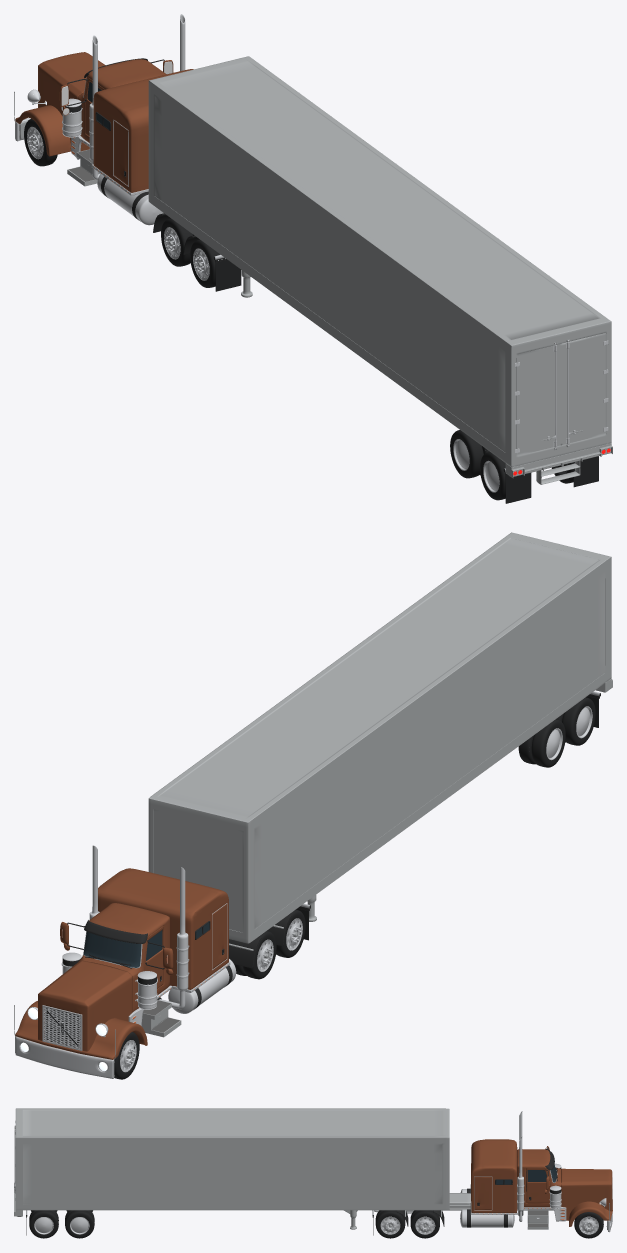
The model's file is semi.glb.
The picture shows the model from 3 angles, top to bottom: view 1: azimuth 30°, elevation 25°; view 2: azimuth 150°, elevation 25°; view 3: azimuth 270°, elevation 25°; orthographic projection. The views are drawn at different scales.
Parts seen in each view (by area): view 1: Cube007_19, Cube007_20, Cube007, Cube007_4, Cube007_9, Cube007_2, Cube007_11, Cube007_10, Cube007_3, Cube007_5; view 2: Cube007_19, Cube007_20, Cube007, Cube007_4, Cube007_3, Cube007_9, Cube007_1, Cube007_10; view 3: Cube007_19, Cube007_20, Cube007, Cube007_4, Cube007_9, Cube007_10, Cube007_14, Cube007_3, Cube007_5, Cube007_1, Cube007_6.
Boxes of the visible parts, bbox=[...] form: Cube007_19: bbox=[148, 56, 611, 467]; Cube007_20: bbox=[150, 56, 610, 345]; Cube007: bbox=[15, 52, 193, 192]; Cube007_4: bbox=[15, 14, 610, 492]; Cube007_9: bbox=[24, 119, 571, 499]; Cube007_2: bbox=[215, 259, 598, 503]; Cube007_11: bbox=[14, 91, 612, 484]; Cube007_10: bbox=[24, 118, 573, 500]; Cube007_3: bbox=[67, 58, 567, 474]; Cube007_5: bbox=[67, 149, 582, 449]; Cube007_19: bbox=[148, 557, 611, 943]; Cube007_20: bbox=[150, 532, 611, 821]; Cube007: bbox=[15, 868, 228, 1059]; Cube007_4: bbox=[15, 691, 599, 1078]; Cube007_3: bbox=[44, 693, 600, 1048]; Cube007_9: bbox=[116, 699, 595, 1078]; Cube007_1: bbox=[83, 930, 162, 967]; Cube007_10: bbox=[114, 697, 590, 1079]; Cube007_19: bbox=[15, 1109, 449, 1210]; Cube007_20: bbox=[15, 1108, 448, 1137]; Cube007: bbox=[471, 1139, 612, 1226]; Cube007_4: bbox=[14, 1111, 612, 1234]; Cube007_9: bbox=[30, 1210, 603, 1238]; Cube007_10: bbox=[29, 1210, 603, 1238]; Cube007_14: bbox=[344, 1193, 607, 1230]; Cube007_3: bbox=[26, 1147, 557, 1227]; Cube007_5: bbox=[14, 1125, 548, 1229]; Cube007_1: bbox=[527, 1165, 556, 1182]; Cube007_6: bbox=[528, 1210, 548, 1226].
Bounding box in the file's own units: 2.07 × 3.02 × 16.
